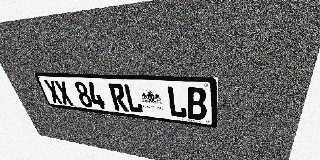4: (85, 82, 106, 109)
8: (73, 81, 94, 108)
B: (186, 87, 207, 121)
L: (166, 86, 187, 118), (123, 84, 144, 113)
R: (108, 83, 129, 112)
X: (54, 80, 74, 105), (43, 80, 63, 104)
